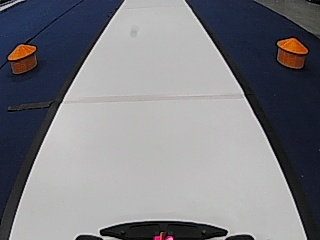granary: (275, 35, 308, 69), (6, 42, 37, 74)
